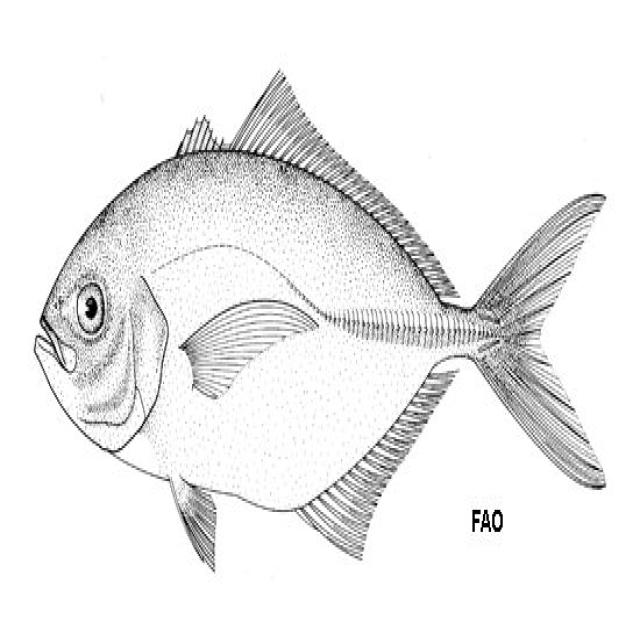ikan: (34, 66, 608, 572)
